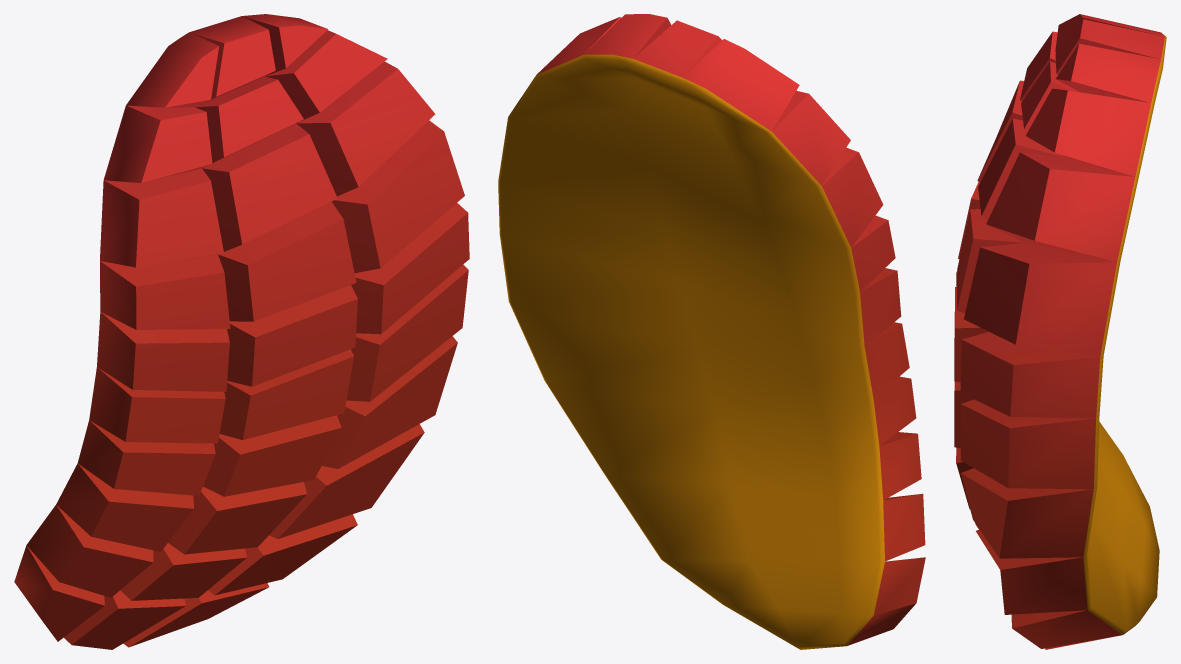
Rendered from Mango_cubes.fbx.
3 views of the same model, side by side, from view 1: azimuth 30°, elevation 25°; view 2: azimuth 150°, elevation 25°; view 3: azimuth 270°, elevation 25° (orthographic). The views are drawn at different scales.
Parts seen in each view (by area): view 1: Mango_cubes; view 2: Mango_cubes; view 3: Mango_cubes.
Part boxes in pixels (left/top/right/bottom): Mango_cubes: left=14, top=14, right=469, bottom=649; Mango_cubes: left=498, top=14, right=925, bottom=649; Mango_cubes: left=954, top=14, right=1166, bottom=649.
Bounding box in the file's own units: 143 × 196 × 57.09.
